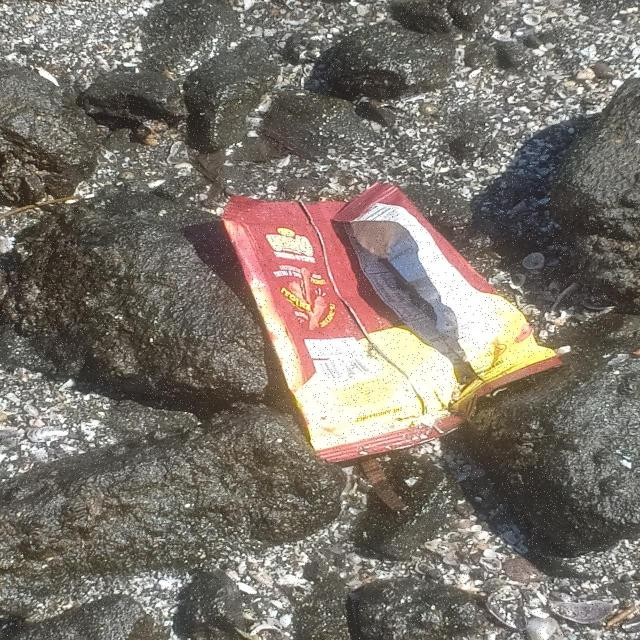plastic_waste: (224, 182, 566, 467)
